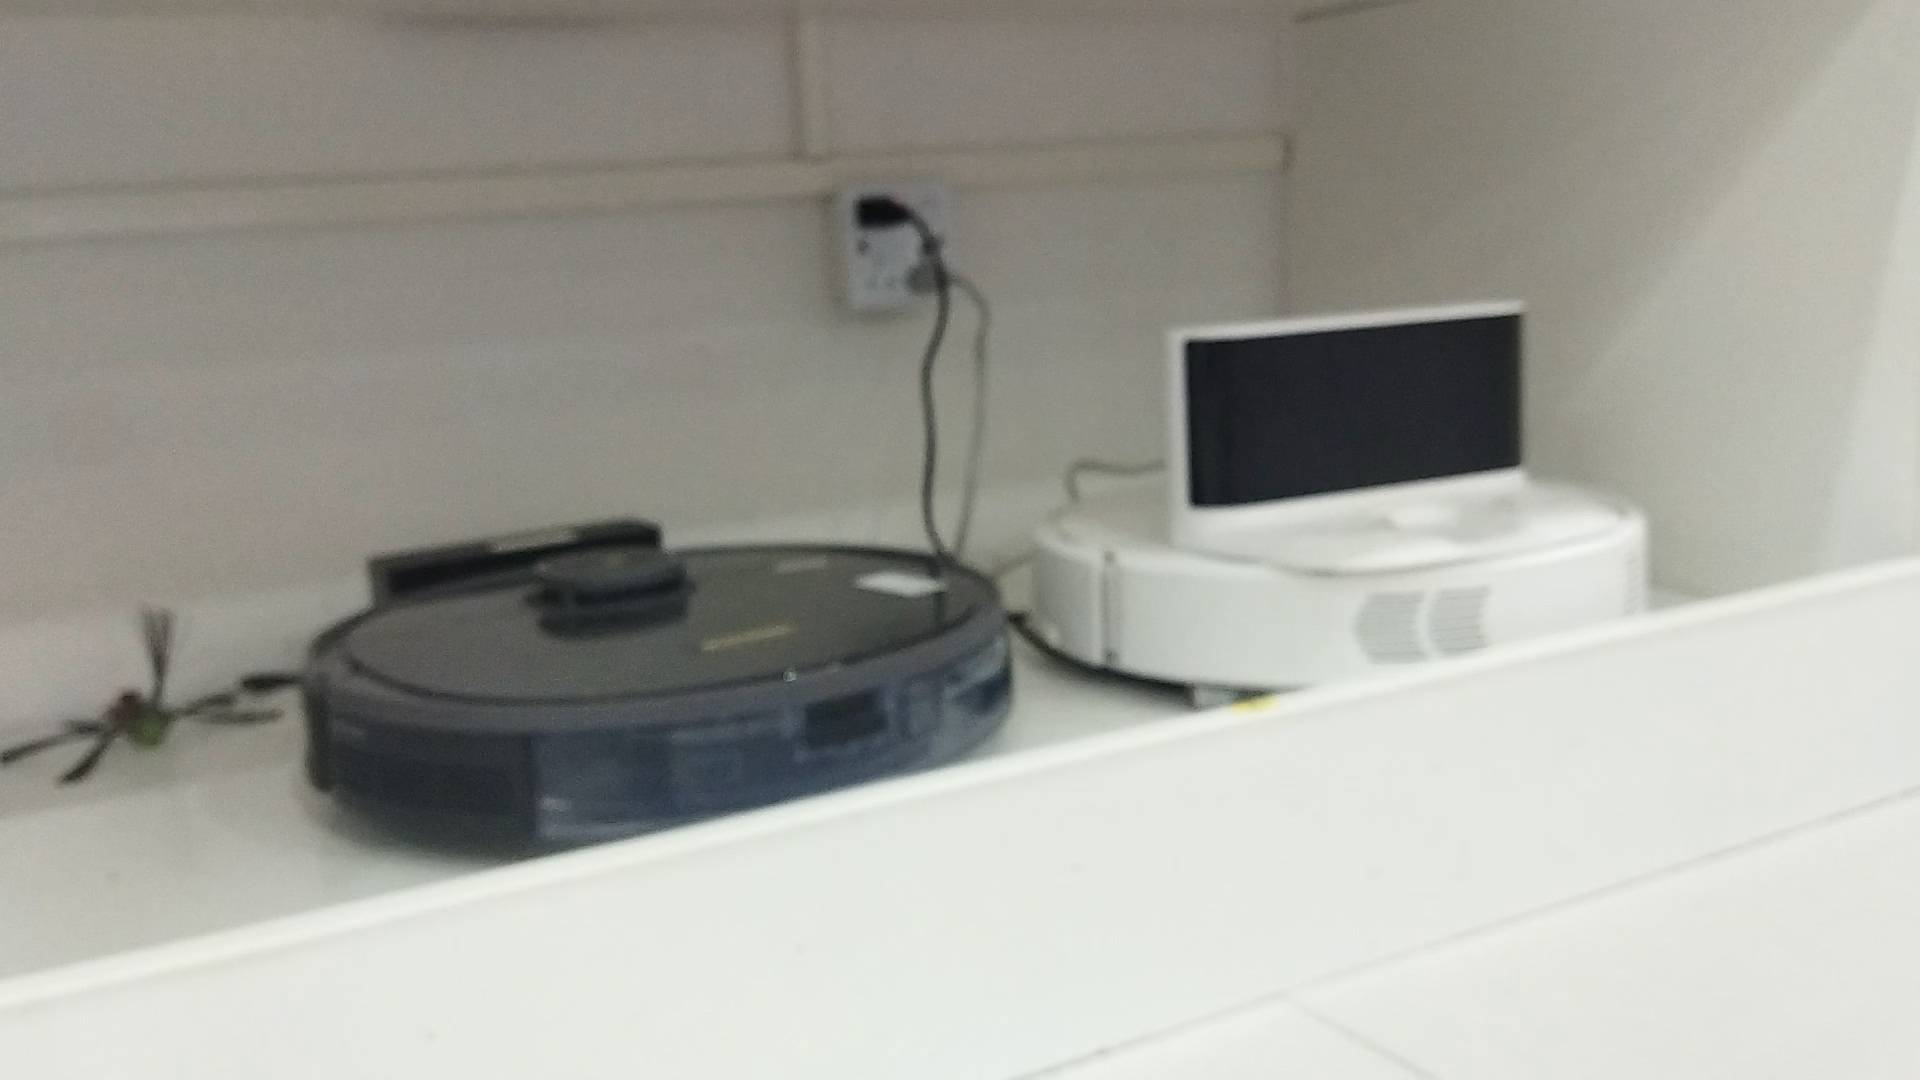recharge seat: (1168, 287, 1621, 578)
